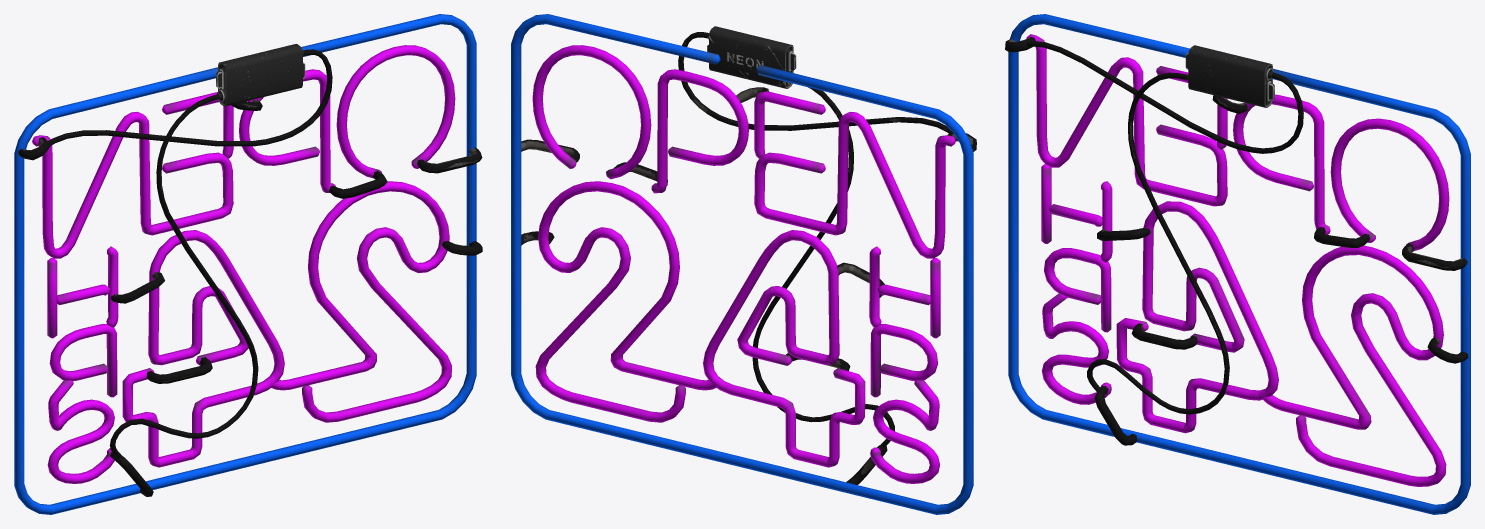
The model's file is Prop_OpenSign24.fbx.
3 views of the same model, side by side, from view 1: azimuth 30°, elevation 25°; view 2: azimuth 150°, elevation 25°; view 3: azimuth 330°, elevation 25° (orthographic).
Parts seen in each view (by area): view 1: Prop_OpenSign24; view 2: Prop_OpenSign24; view 3: Prop_OpenSign24.
Boxes of the visible parts, x1,y1,x2,y2 form: Prop_OpenSign24: (14, 14, 482, 514); Prop_OpenSign24: (511, 14, 976, 514); Prop_OpenSign24: (1005, 14, 1470, 514).
Bounding box in the file's own units: 106 × 92.2 × 7.55.
